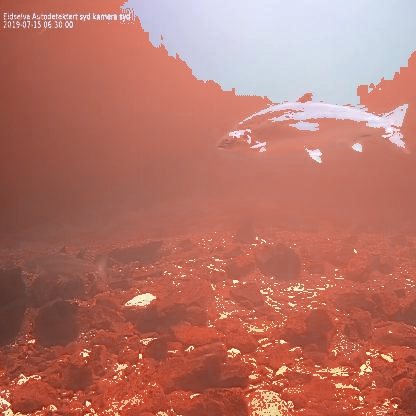salmon: (213, 88, 414, 170), (20, 241, 110, 285)
